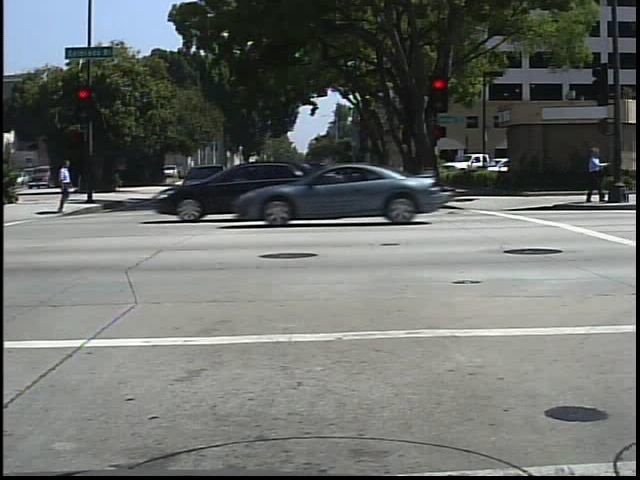person: (582, 144, 610, 207), (50, 157, 75, 216)
